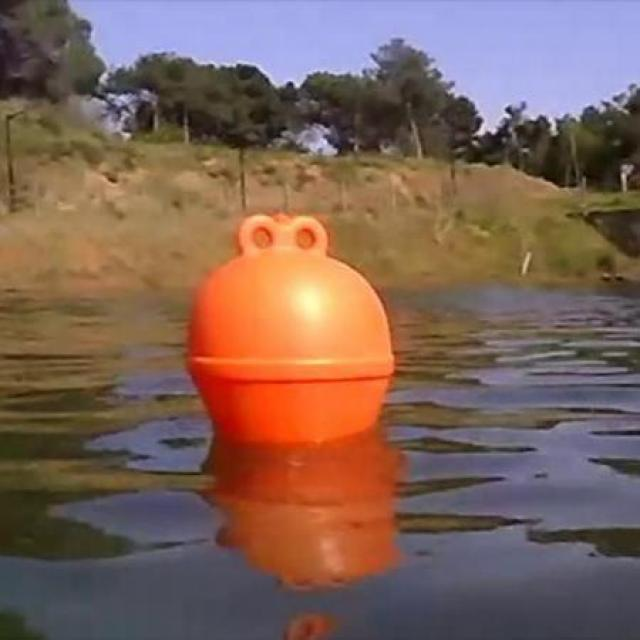buoy: (184, 210, 398, 436)
